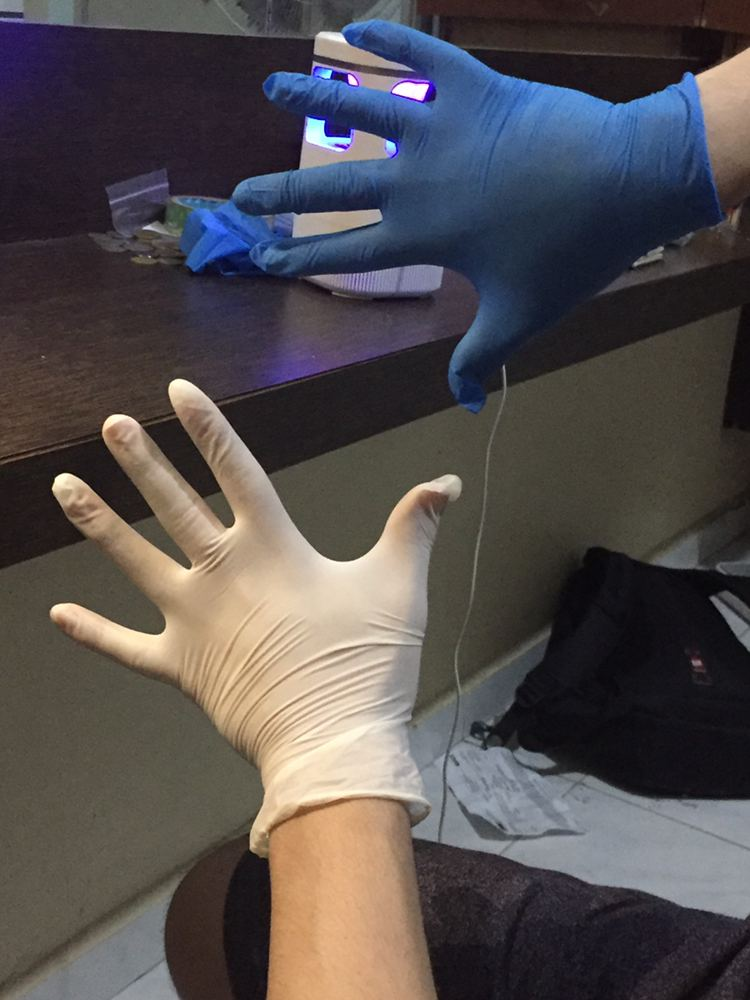glove: (27, 371, 473, 782), (229, 14, 658, 426)
